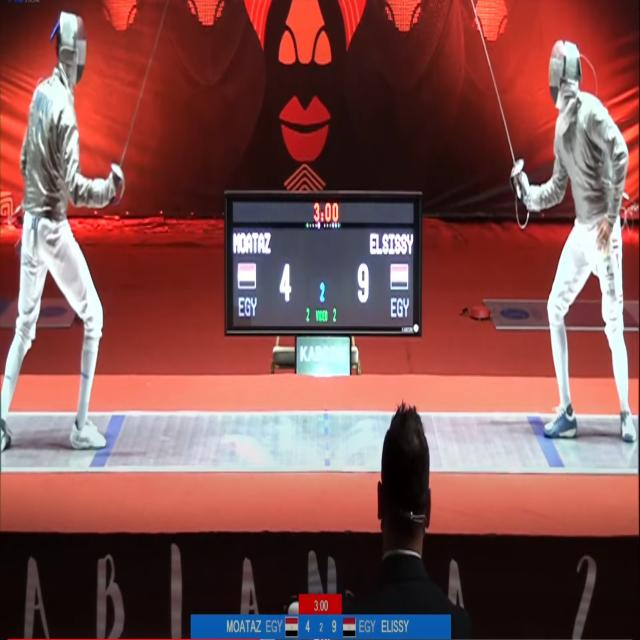fencer: (512, 39, 636, 458), (5, 12, 109, 458)
overlayLeft: (191, 614, 299, 638)
overlayRight: (342, 615, 451, 640)
scoreLeft: (303, 617, 319, 638)
scoreRight: (324, 613, 339, 640)
